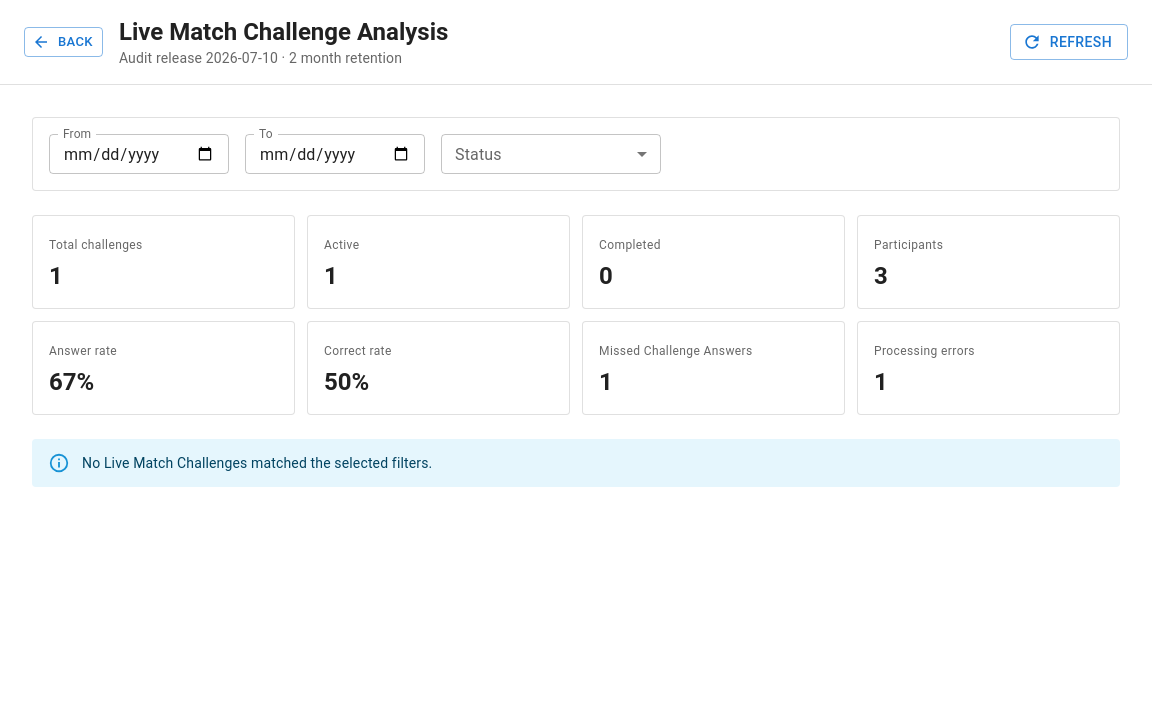
Test: LiveChallengeAnalysisDashboard › renders empty and error states
Expected: the text "No Live Match Challenges matched the selected filters." is shown, [82,455,432,471]
Click the button "Refresh": (1069,42) [1010,24,1128,60]
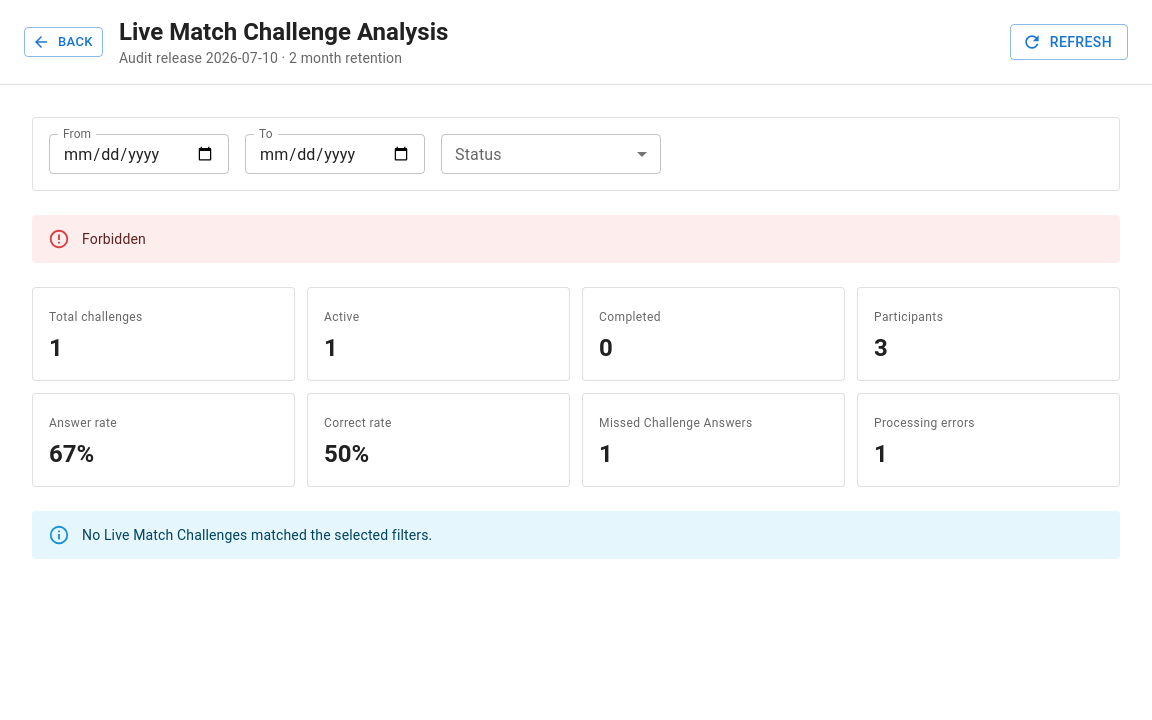
Result: the text "Forbidden" is shown at [82,231,146,247]
